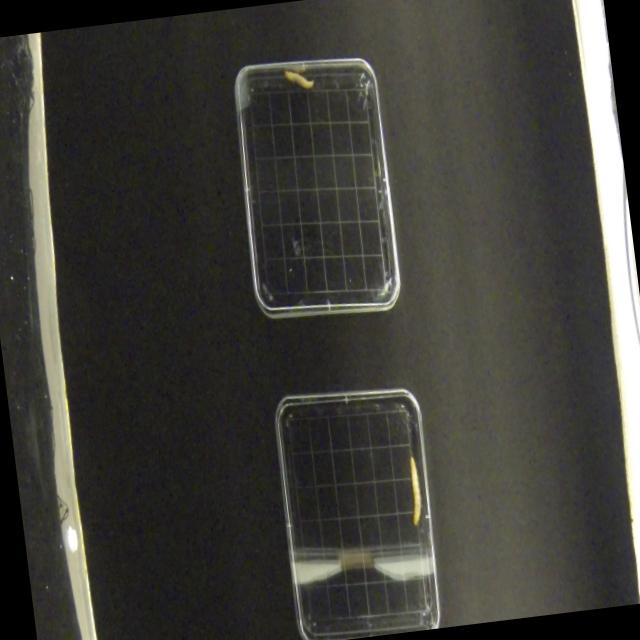larva: (402, 454, 428, 528), (284, 66, 315, 93)
